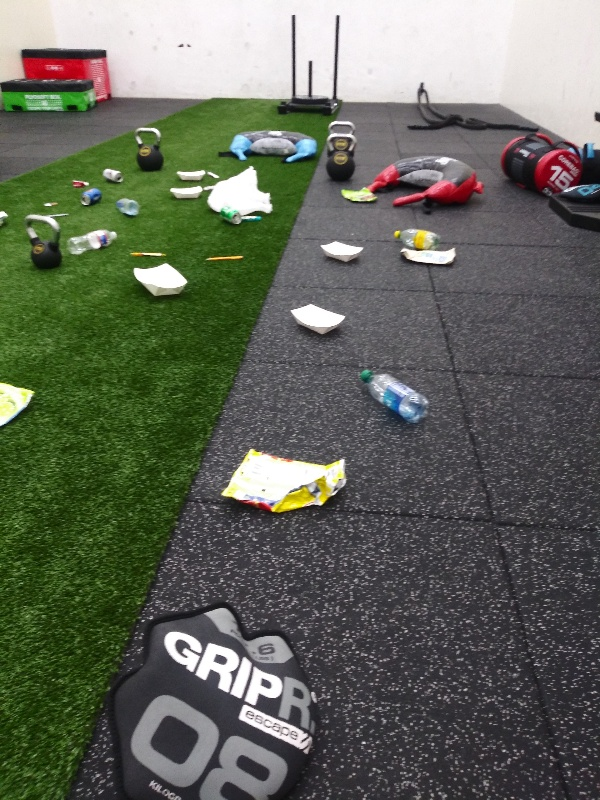bag: (216, 447, 348, 516), (1, 379, 38, 434), (394, 246, 457, 267), (336, 185, 379, 205)
bottle: (354, 365, 426, 428), (64, 225, 120, 260), (388, 227, 443, 249), (113, 195, 142, 218)
can: (215, 204, 243, 229), (76, 187, 103, 212), (98, 164, 125, 186)
plate: (124, 256, 191, 303), (285, 301, 348, 338), (313, 238, 368, 265), (163, 182, 204, 202), (173, 165, 209, 182)
